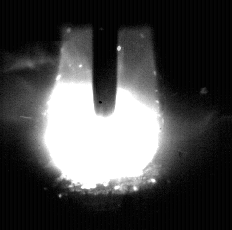arame: (94, 0, 117, 116)
poca: (42, 0, 161, 230)
